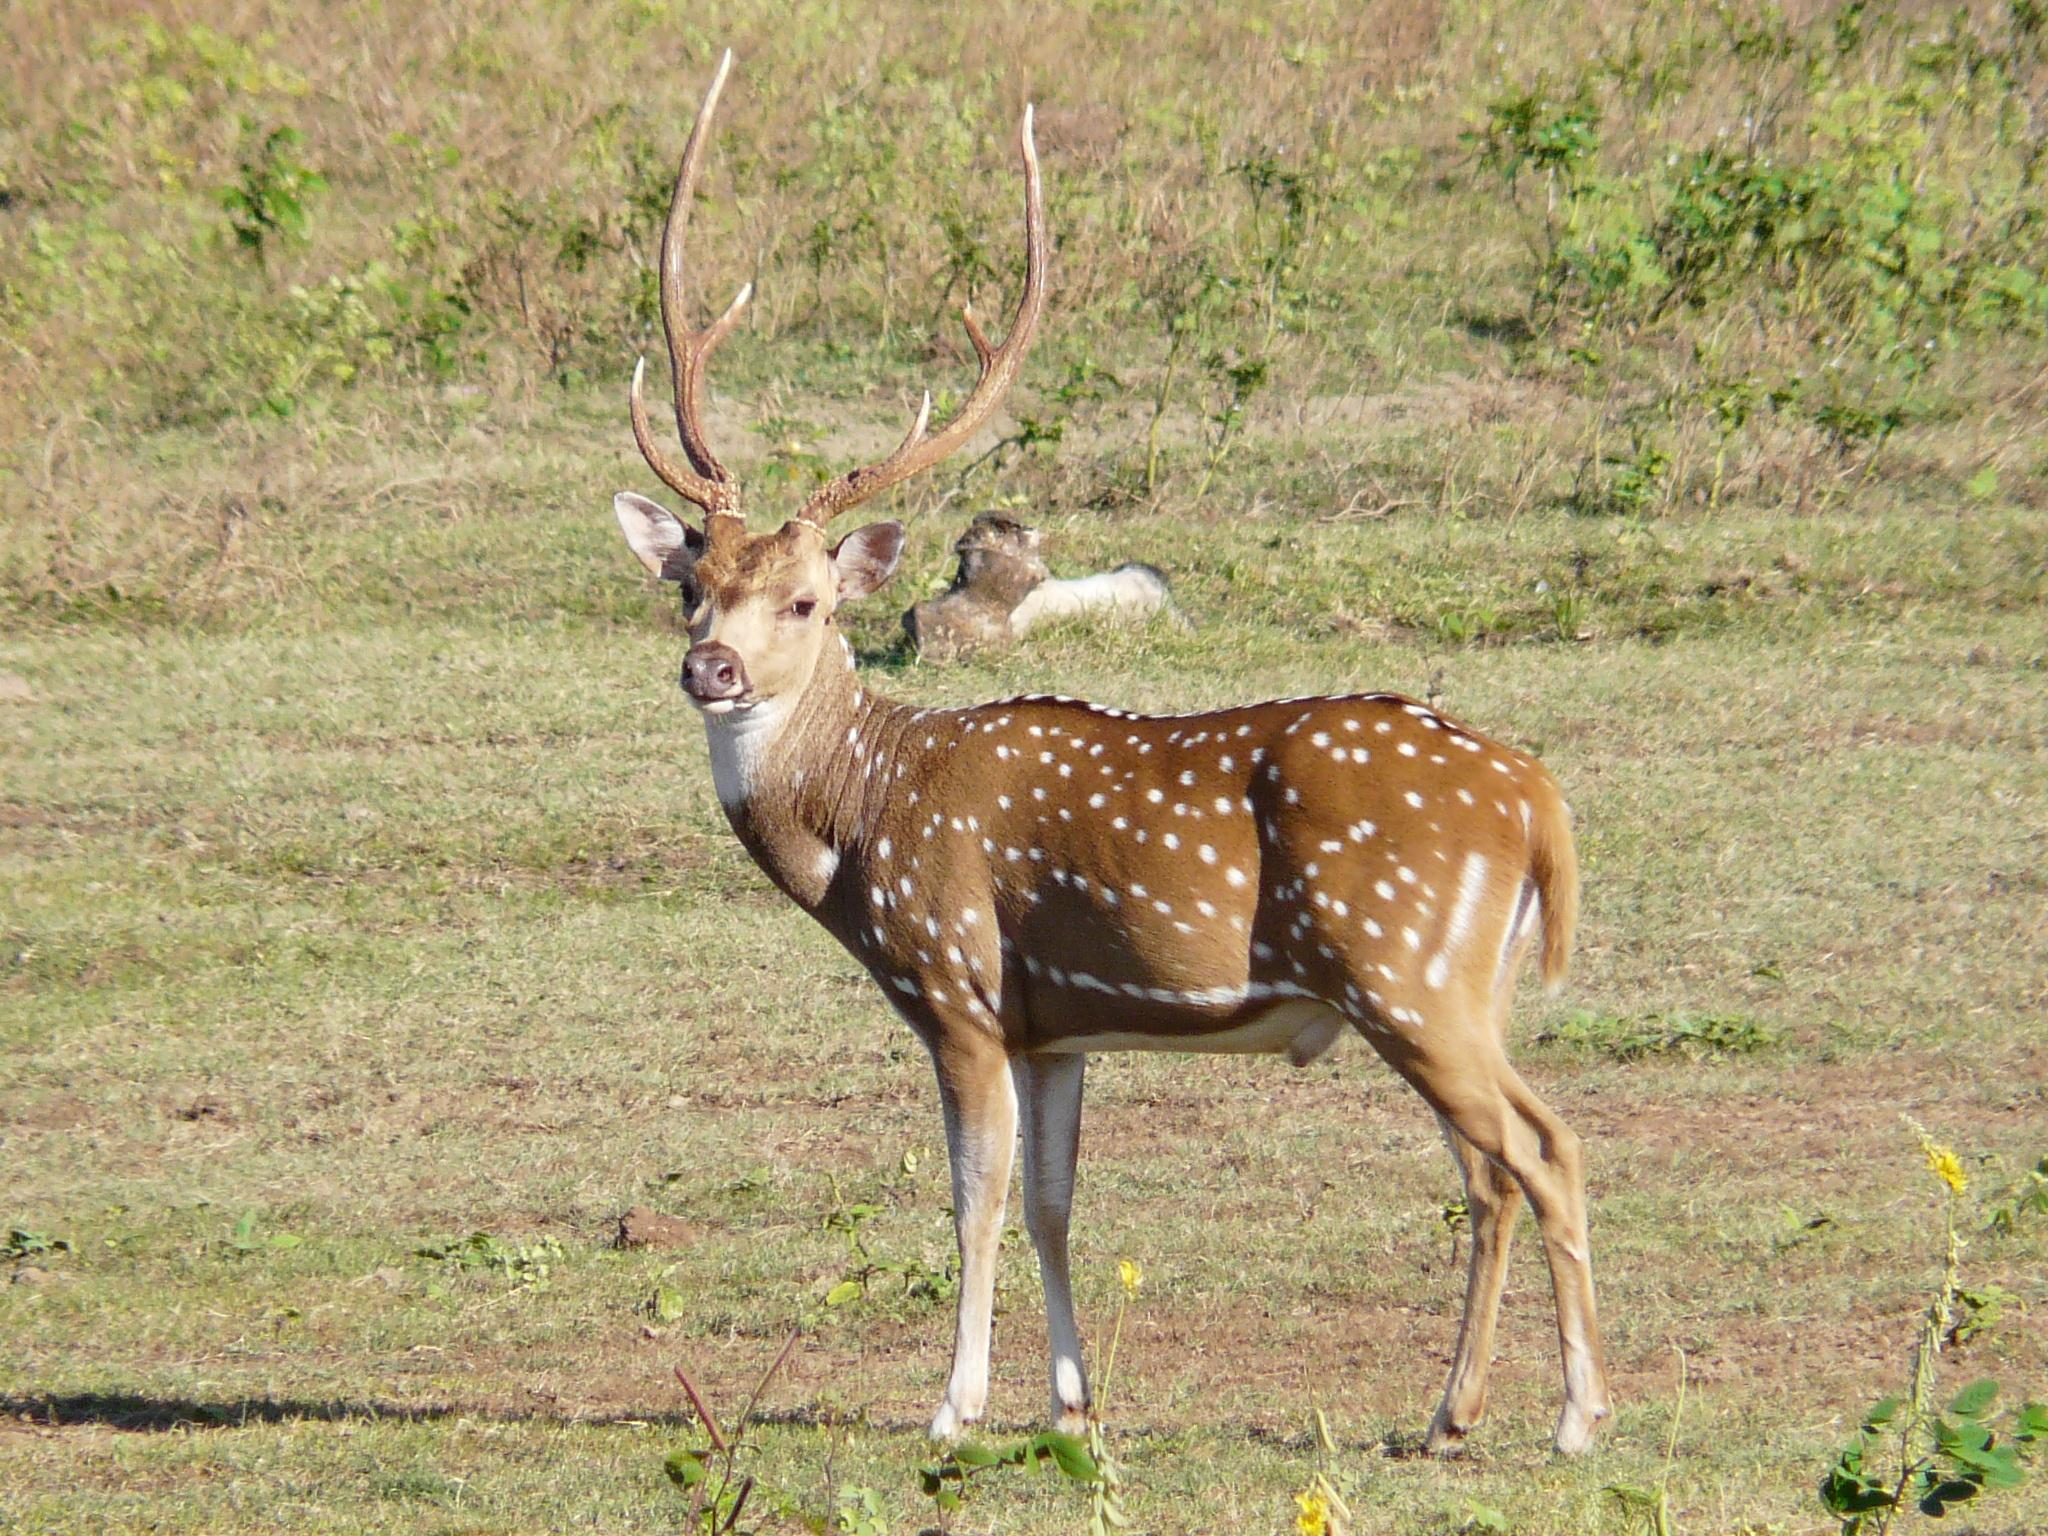Deer: (616, 52, 1608, 1452)
